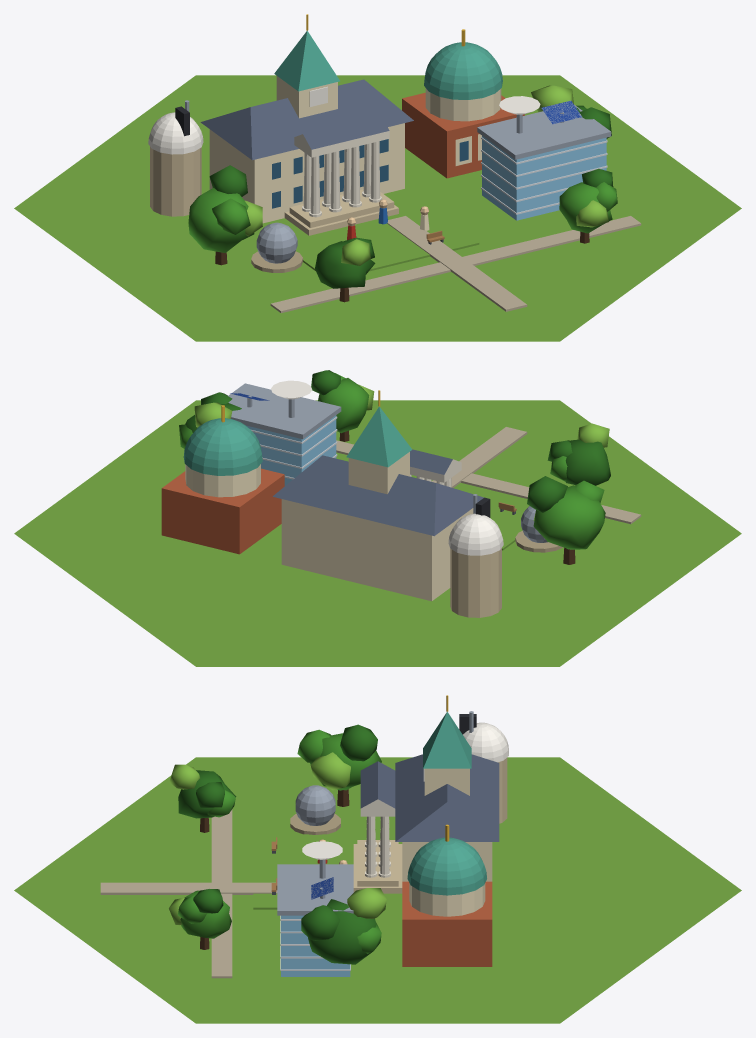
The model's file is district_campus_3.fbx.
3 renders of one model, top to bottom at view 1: azimuth 30°, elevation 25°; view 2: azimuth 150°, elevation 25°; view 3: azimuth 270°, elevation 25°, orthographic.
Visible parts, largest first — view 1: district_campus_3; view 2: district_campus_3; view 3: district_campus_3.
Part boxes in pixels (x1,y1,x2,y2): district_campus_3: (14,14,741,341); district_campus_3: (14,370,741,666); district_campus_3: (14,695,741,1023).
Size of the model in its own units: 182 by 56.45 by 210.
